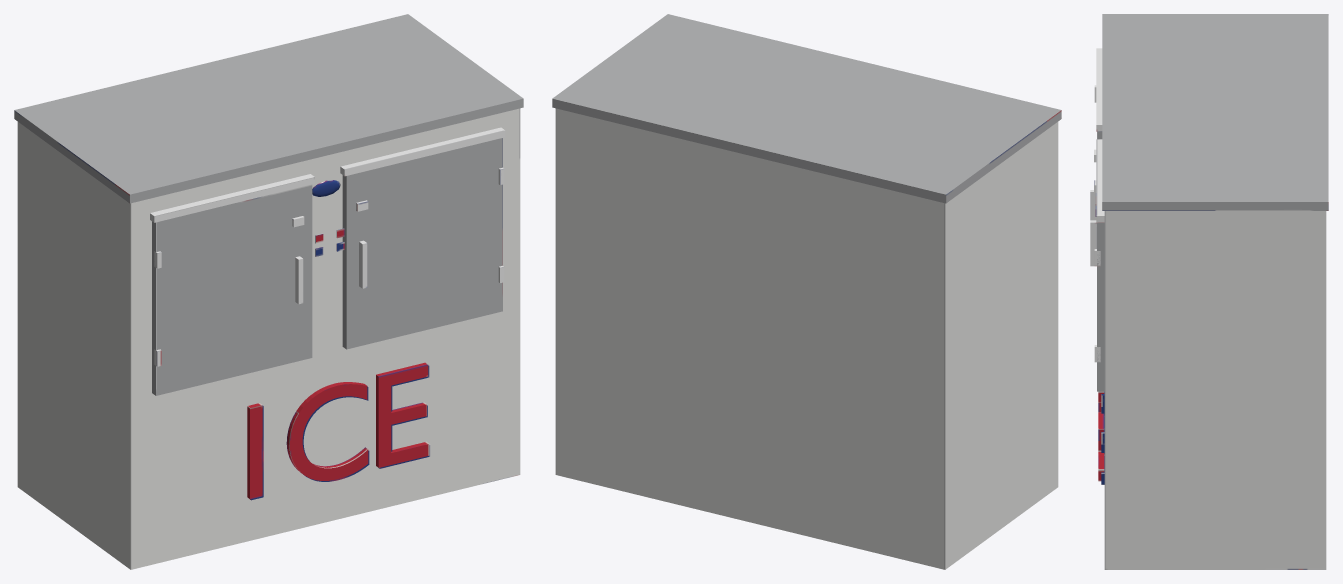
File: gasStationIceMachine.glb
3 views of the same model, side by side, from view 1: azimuth 30°, elevation 25°; view 2: azimuth 150°, elevation 25°; view 3: azimuth 270°, elevation 25° (orthographic). The views are drawn at different scales.
Visible parts, largest first — view 1: Ice_Merchandiser_2Door_W72in; view 2: Ice_Merchandiser_2Door_W72in; view 3: Ice_Merchandiser_2Door_W72in.
Part boxes in pixels (box(x1,y1,x2,y2)): Ice_Merchandiser_2Door_W72in: box(14, 14, 523, 569); Ice_Merchandiser_2Door_W72in: box(552, 14, 1061, 569); Ice_Merchandiser_2Door_W72in: box(1090, 14, 1328, 569).
Size of the model in its own units: 1.85 by 1.69 by 0.99.
1 material, 1 textured.
